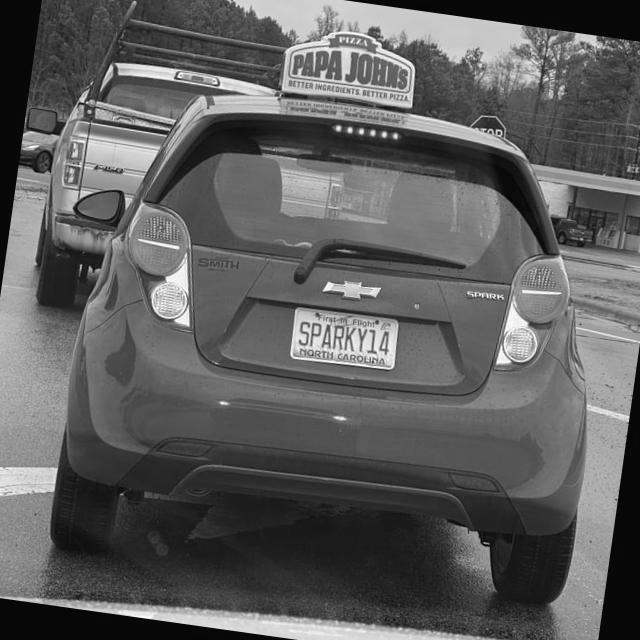LicensePlate: (289, 306, 400, 371)
